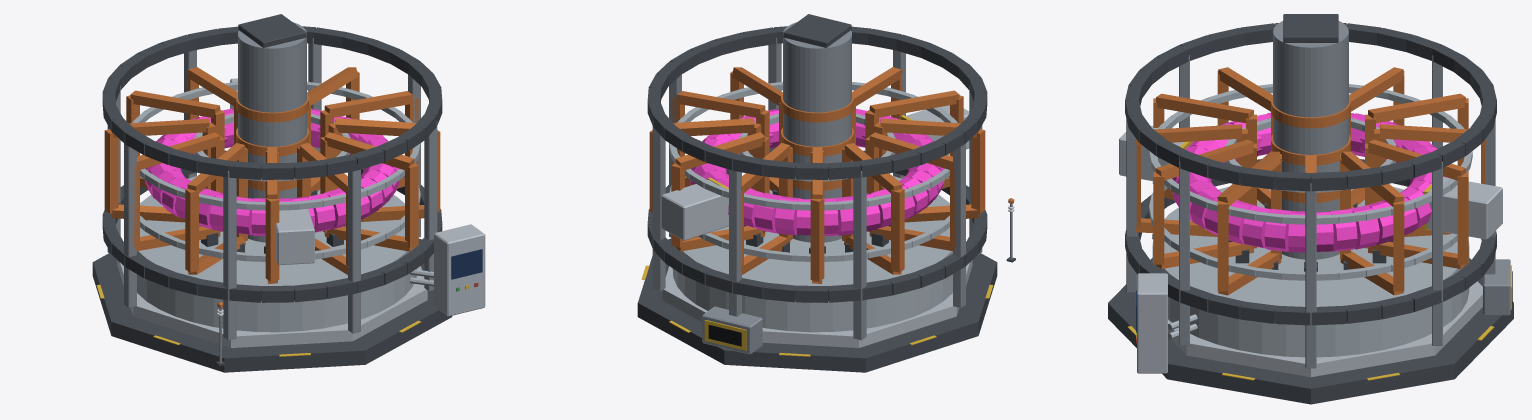
Rendered from reacteur_fusion.glb.
3 renders of one model, left to right at view 1: azimuth 30°, elevation 25°; view 2: azimuth 150°, elevation 25°; view 3: azimuth 270°, elevation 25°, orthographic. The views are drawn at different scales.
Visible parts, largest first — view 1: pieces_cuivre.006, pieces_acier_sombre.007, cryostat.002, socle.002, pieces_acier.007, solenoide.002, voyant_plasma_plasma.002, pieces_inox.002, pieces_gris_clair.007, socle_haut.002, pieces_panneau.005; view 2: pieces_cuivre.006, pieces_acier_sombre.007, cryostat.002, pieces_acier.007, socle.002, solenoide.002, voyant_plasma_plasma.002, pieces_inox.002, socle_haut.002, pieces_gris_clair.007, pieces_jaune.007, pieces_noir.007; view 3: pieces_cuivre.006, pieces_acier_sombre.007, cryostat.002, socle.002, pieces_acier.007, voyant_plasma_plasma.002, solenoide.002, pieces_inox.002, pieces_gris_clair.007, socle_haut.002, pieces_jaune.007.
Part boxes in pixels (x1=…): pieces_cuivre.006: x1=104, y1=67, x2=440, y2=307; pieces_acier_sombre.007: x1=102, y1=14, x2=442, y2=366; cryostat.002: x1=137, y1=176, x2=417, y2=332; socle.002: x1=92, y1=238, x2=452, y2=372; pieces_acier.007: x1=107, y1=38, x2=437, y2=363; solenoide.002: x1=238, y1=22, x2=306, y2=242; voyant_plasma_plasma.002: x1=144, y1=108, x2=399, y2=236; pieces_inox.002: x1=132, y1=82, x2=433, y2=286; pieces_gris_clair.007: x1=230, y1=78, x2=485, y2=316; socle_haut.002: x1=117, y1=260, x2=427, y2=347; pieces_panneau.005: x1=451, y1=249, x2=482, y2=279; pieces_cuivre.006: x1=649, y1=67, x2=1014, y2=284; pieces_acier_sombre.007: x1=647, y1=14, x2=1015, y2=302; cryostat.002: x1=672, y1=176, x2=952, y2=332; pieces_acier.007: x1=652, y1=38, x2=1012, y2=354; socle.002: x1=637, y1=238, x2=997, y2=372; solenoide.002: x1=783, y1=22, x2=851, y2=242; voyant_plasma_plasma.002: x1=690, y1=109, x2=944, y2=236; pieces_inox.002: x1=669, y1=82, x2=957, y2=261; socle_haut.002: x1=662, y1=260, x2=972, y2=347; pieces_gris_clair.007: x1=661, y1=105, x2=969, y2=240; pieces_jaune.007: x1=641, y1=115, x2=993, y2=356; pieces_noir.007: x1=708, y1=325, x2=741, y2=346; pieces_cuivre.006: x1=1135, y1=67, x2=1486, y2=295; pieces_acier_sombre.007: x1=1125, y1=14, x2=1496, y2=325; cryostat.002: x1=1152, y1=187, x2=1469, y2=357; socle.002: x1=1108, y1=258, x2=1513, y2=404; pieces_acier.007: x1=1126, y1=55, x2=1510, y2=368; voyant_plasma_plasma.002: x1=1172, y1=112, x2=1446, y2=252; solenoide.002: x1=1273, y1=21, x2=1348, y2=259; pieces_inox.002: x1=1149, y1=84, x2=1472, y2=339; pieces_gris_clair.007: x1=1119, y1=125, x2=1502, y2=373; socle_haut.002: x1=1135, y1=281, x2=1482, y2=377; pieces_jaune.007: x1=1127, y1=141, x2=1511, y2=380.
Bounding box in the file's own units: 3 × 2.35 × 3.
